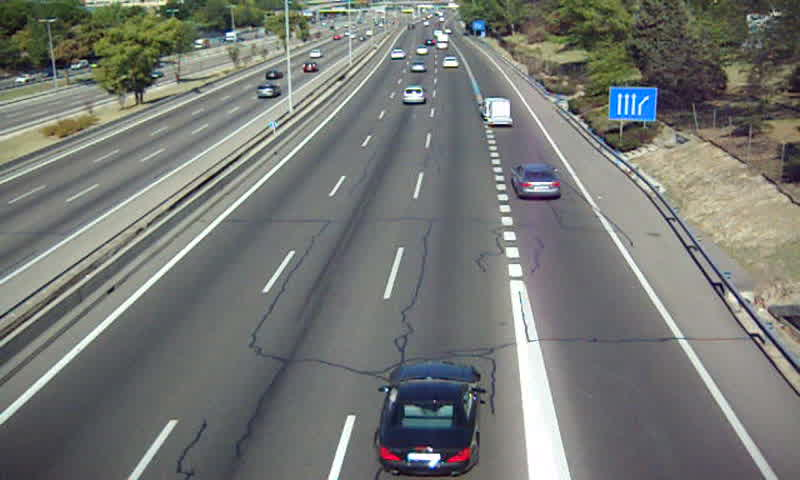car: (375, 362, 482, 474), (512, 165, 563, 200), (402, 86, 427, 106), (442, 55, 461, 69), (409, 62, 429, 74)
van: (479, 98, 512, 126)
